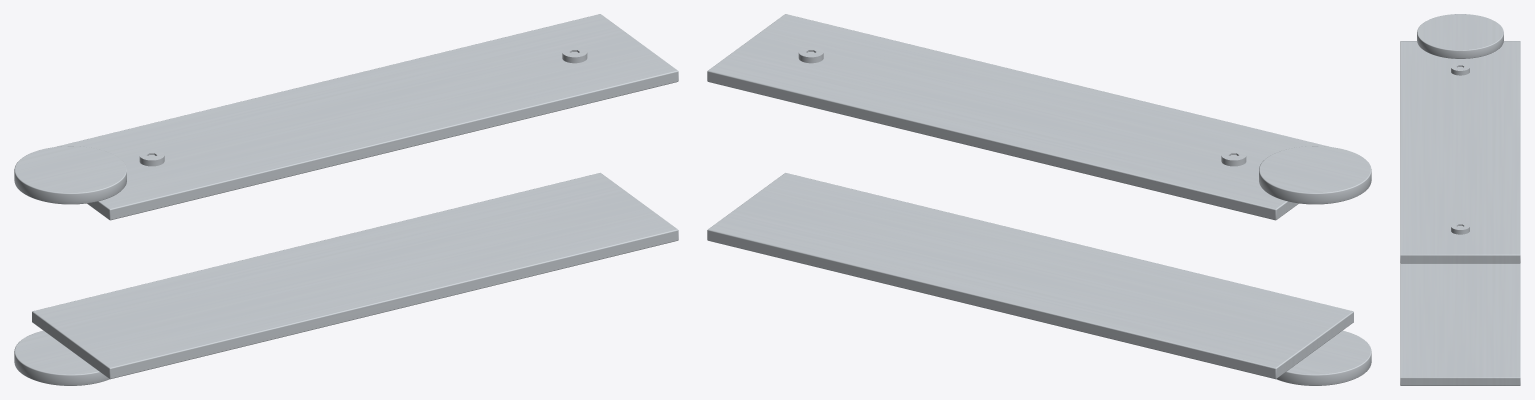
The model's file is right_upper_arm_aluminium.obj.
3 views of the same model, side by side, from view 1: azimuth 30°, elevation 25°; view 2: azimuth 150°, elevation 25°; view 3: azimuth 270°, elevation 25° (orthographic). The views are drawn at different scales.
Visible parts, largest first — view 1: right_upper_arm__aluminium_cheek_-1, right_upper_arm__aluminium_cheek_1, right_upper_arm__pivot_cap_1, right_upper_arm__pivot_cap_-1; view 2: right_upper_arm__aluminium_cheek_-1, right_upper_arm__aluminium_cheek_1, right_upper_arm__pivot_cap_1, right_upper_arm__pivot_cap_-1; view 3: right_upper_arm__aluminium_cheek_1, right_upper_arm__aluminium_cheek_-1, right_upper_arm__pivot_cap_1, right_upper_arm__bracket_screw_1_0.015, right_upper_arm__bracket_screw_1_0.093.
Boxes of the visible parts, box(x1,y1,x2,y2) form: right_upper_arm__aluminium_cheek_-1: box(32, 173, 678, 379); right_upper_arm__aluminium_cheek_1: box(56, 14, 678, 220); right_upper_arm__pivot_cap_1: box(14, 146, 126, 204); right_upper_arm__pivot_cap_-1: box(14, 330, 109, 385); right_upper_arm__aluminium_cheek_-1: box(707, 173, 1353, 379); right_upper_arm__aluminium_cheek_1: box(707, 14, 1329, 220); right_upper_arm__pivot_cap_1: box(1259, 146, 1371, 204); right_upper_arm__pivot_cap_-1: box(1276, 330, 1371, 385); right_upper_arm__aluminium_cheek_1: box(1400, 41, 1520, 263); right_upper_arm__aluminium_cheek_-1: box(1400, 263, 1520, 385); right_upper_arm__pivot_cap_1: box(1417, 14, 1503, 58); right_upper_arm__bracket_screw_1_0.015: box(1451, 62, 1469, 75); right_upper_arm__bracket_screw_1_0.093: box(1451, 222, 1469, 234).
Size of the model in its own units: 0.114 by 0.034 by 0.025.
Materials: 1 (1 with a texture image).
